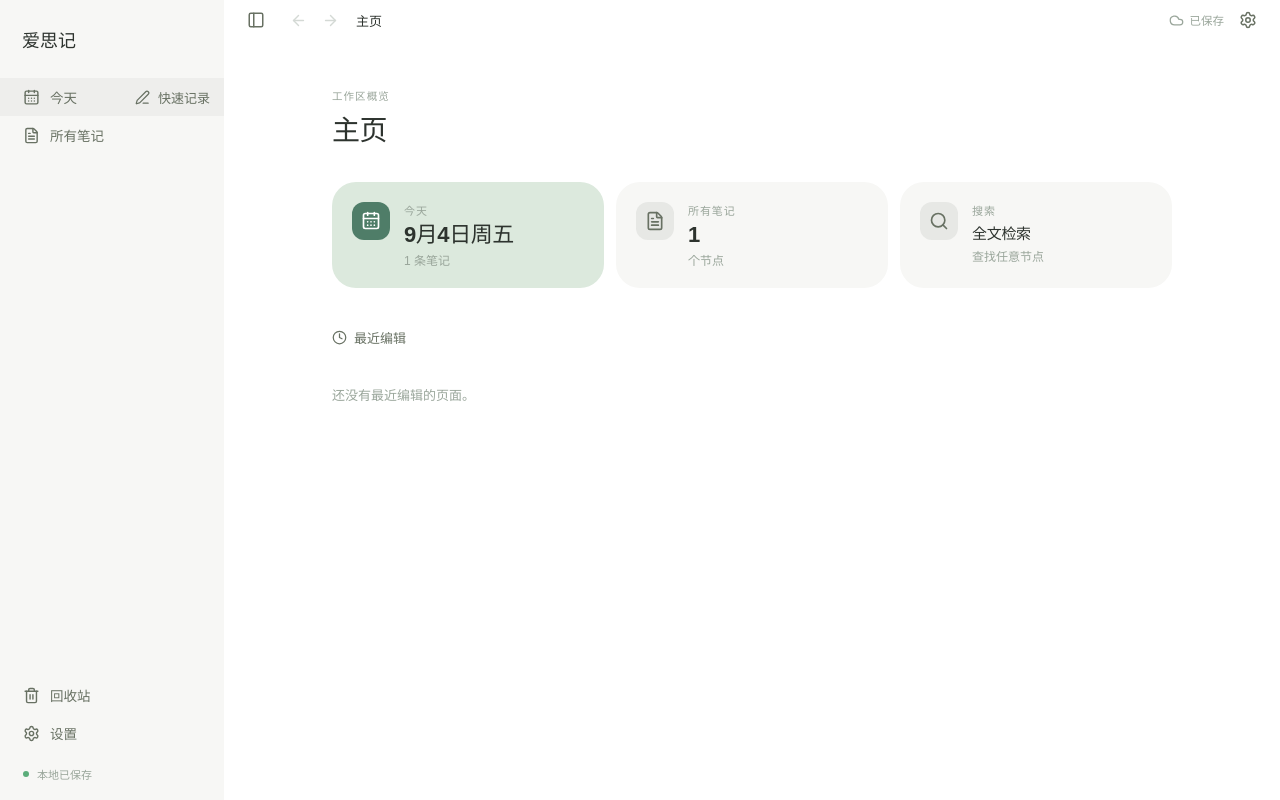
it: AppShell notebook lifecycle › moves backward and forward through page navigation changes
The image size is (1280, 800).
Click the button "所有笔记" at (112, 135), box [0,116,224,154]
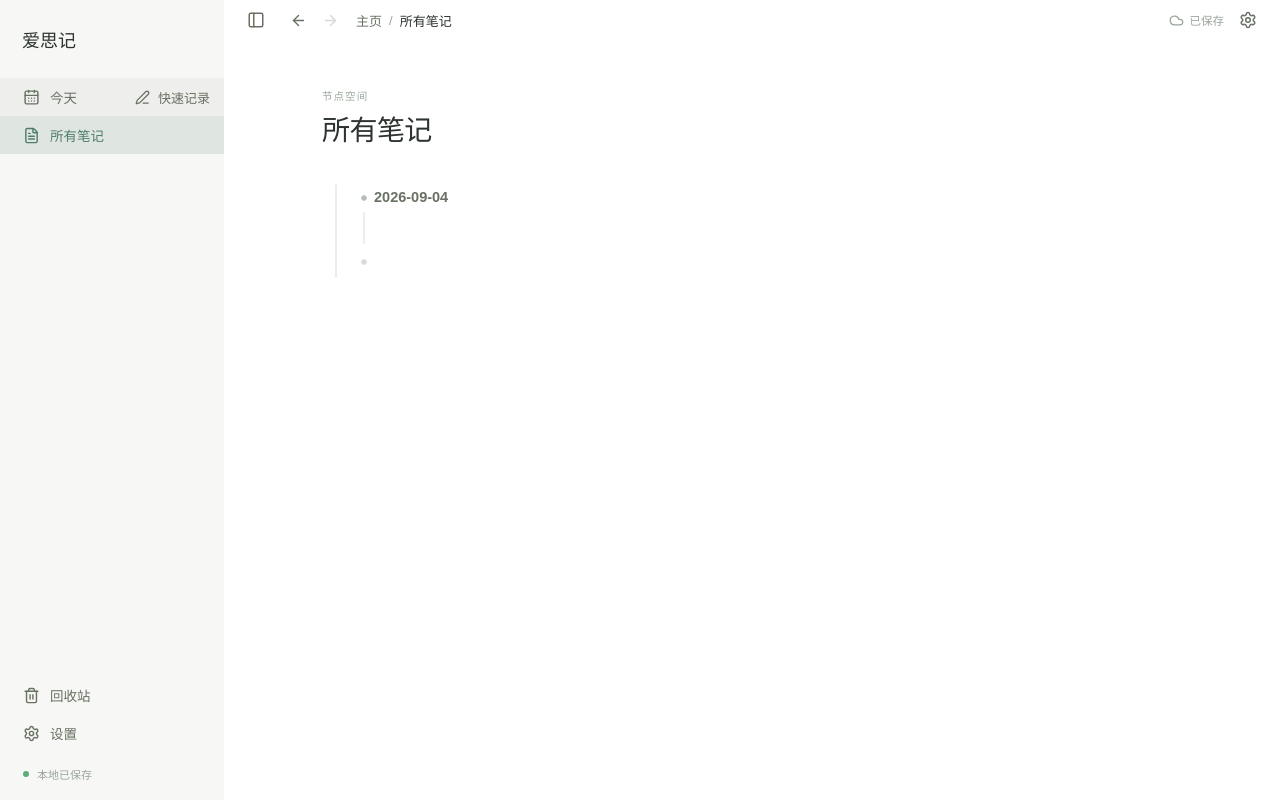
Expected: the text with class "breadcrumb-current" reads "所有笔记", [400,14,452,28]
Click the button "设置" at (112, 733), box [0,714,224,752]
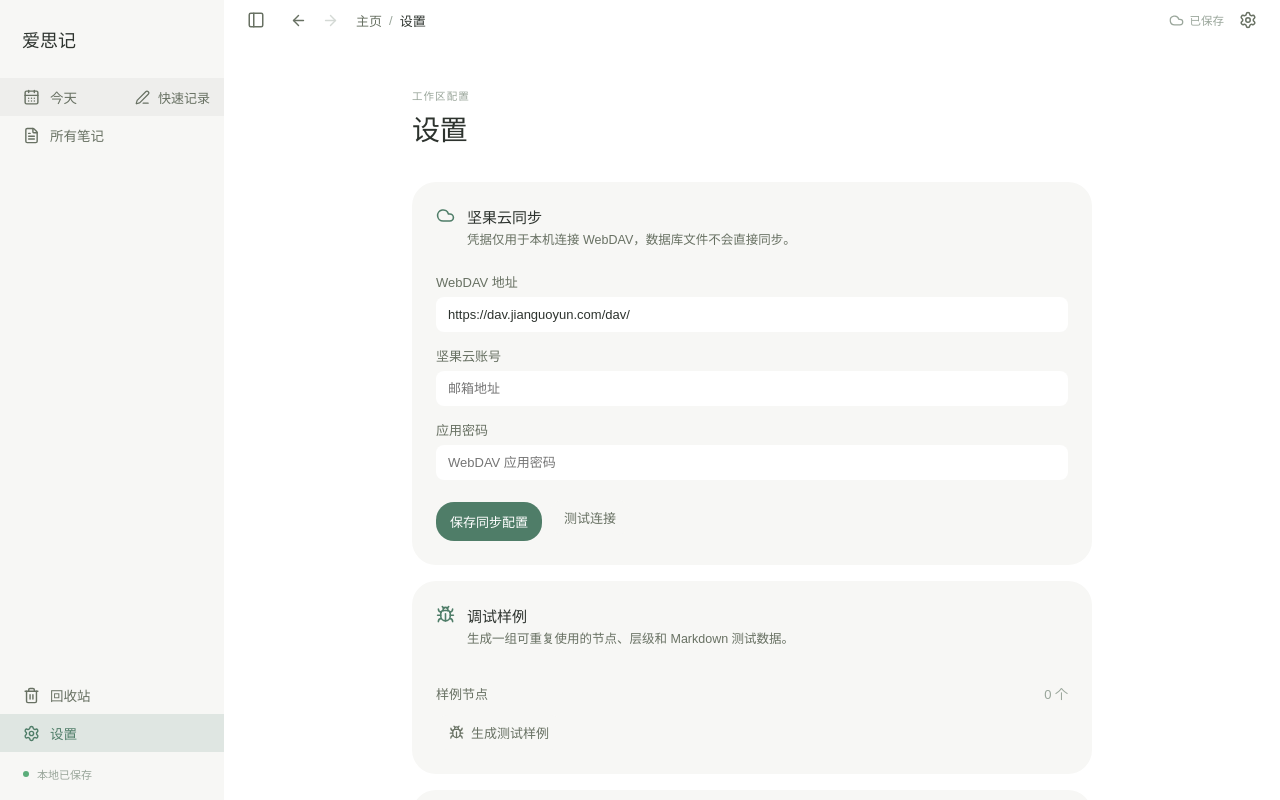
Expected: the text with class "breadcrumb-current" reads "设置", [400,14,426,28]
Click the button named "后退" at (298, 20), box [282,4,314,36]
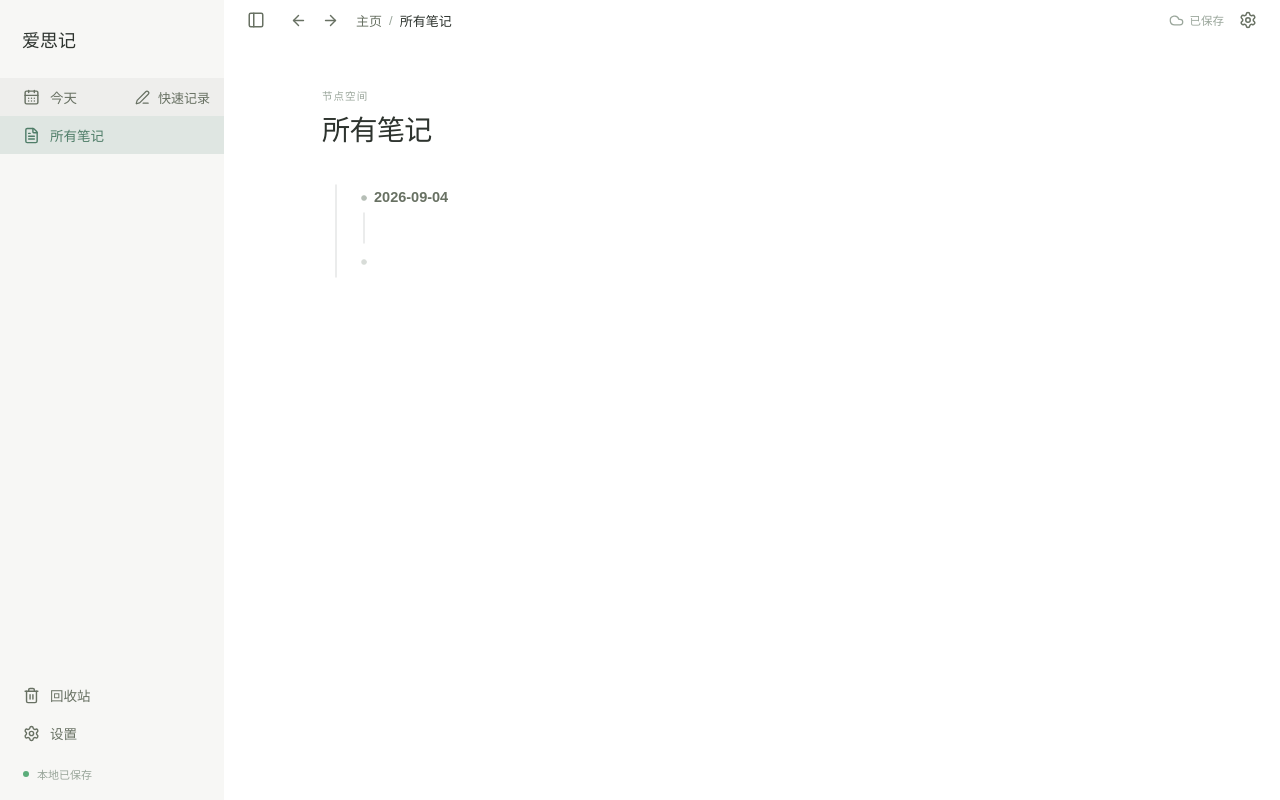
Expected: the text with class "breadcrumb-current" reads "所有笔记", [400,14,452,28]
Expected: the button named "前进" is enabled, [314,4,346,36]
Press ArrowRight
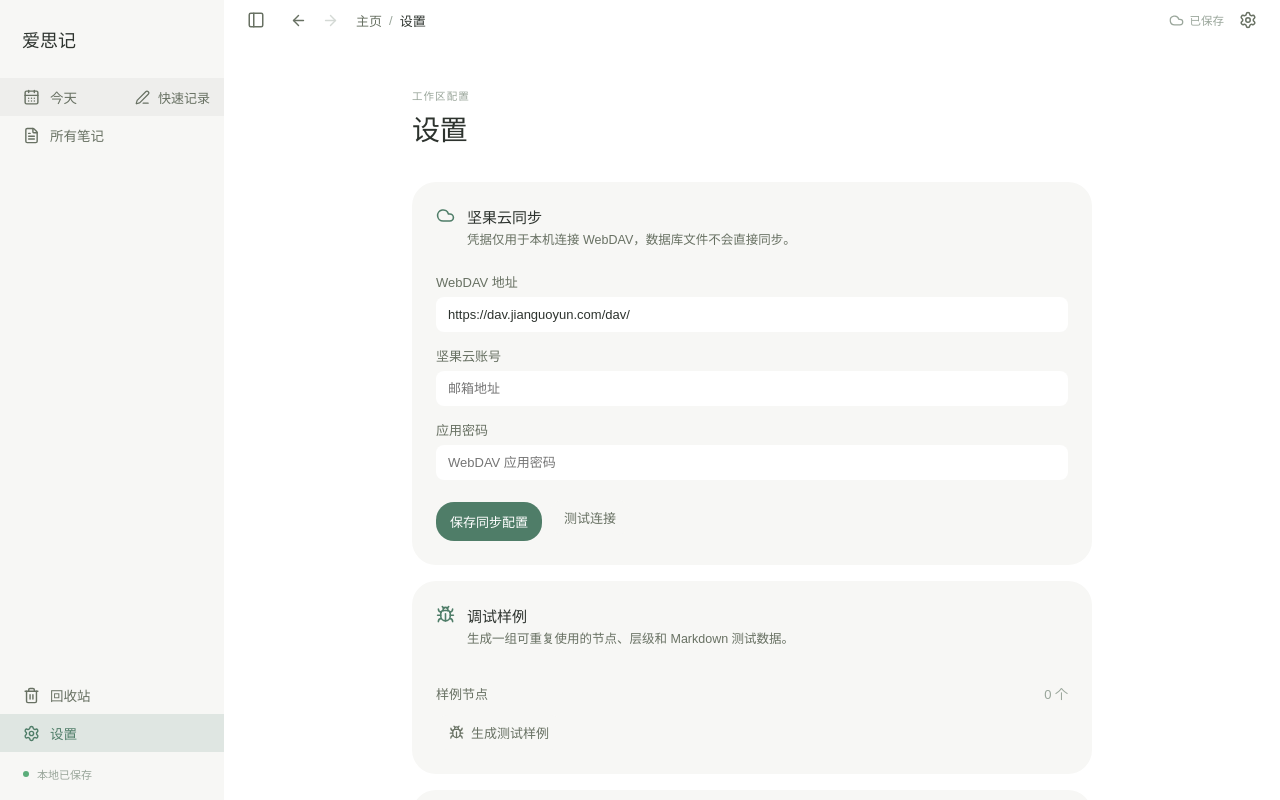
Expected: the text with class "breadcrumb-current" reads "设置", [400,14,426,28]
